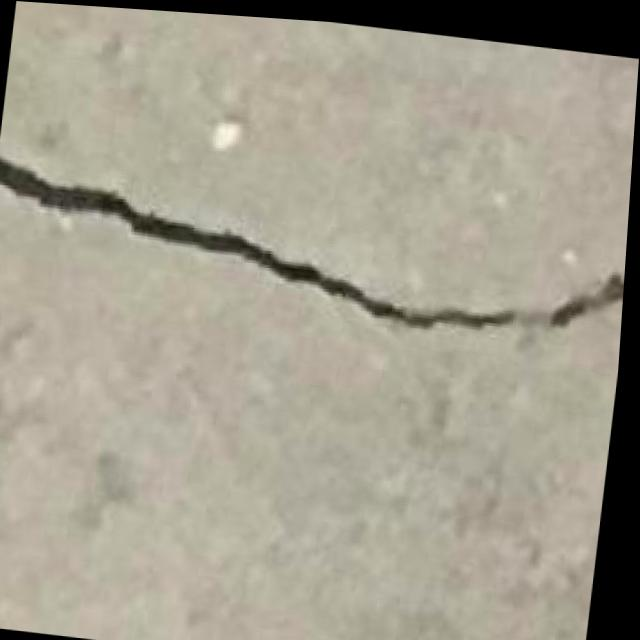Crack: (0, 129, 633, 347)
